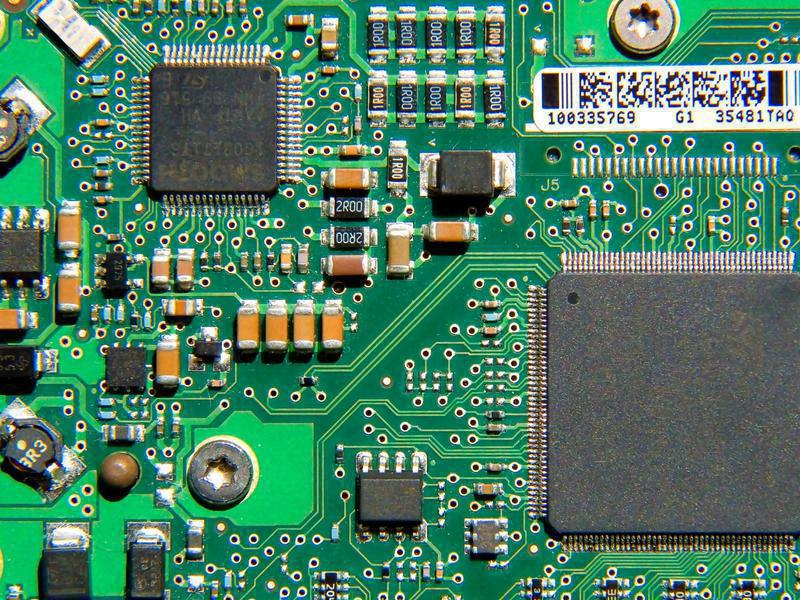SMD capacitor: (423, 220, 484, 245), (385, 226, 412, 277), (236, 303, 261, 350), (58, 203, 82, 251), (323, 304, 348, 350), (264, 303, 288, 350), (326, 168, 372, 192), (325, 256, 372, 279), (56, 269, 80, 314), (294, 304, 313, 349), (319, 23, 337, 52), (474, 481, 503, 495), (287, 12, 313, 27), (279, 245, 292, 265), (299, 247, 308, 271), (589, 201, 598, 219)
SMD resistor: (324, 198, 378, 223), (155, 336, 181, 384), (325, 226, 374, 250), (424, 74, 447, 121), (453, 12, 477, 55), (366, 74, 389, 118), (484, 11, 505, 56), (485, 78, 508, 119), (386, 148, 408, 189), (456, 77, 476, 122), (399, 74, 418, 119), (396, 12, 419, 49), (426, 13, 446, 54), (153, 248, 173, 288), (369, 14, 387, 53), (176, 251, 197, 280), (167, 298, 197, 318), (186, 524, 202, 561)
